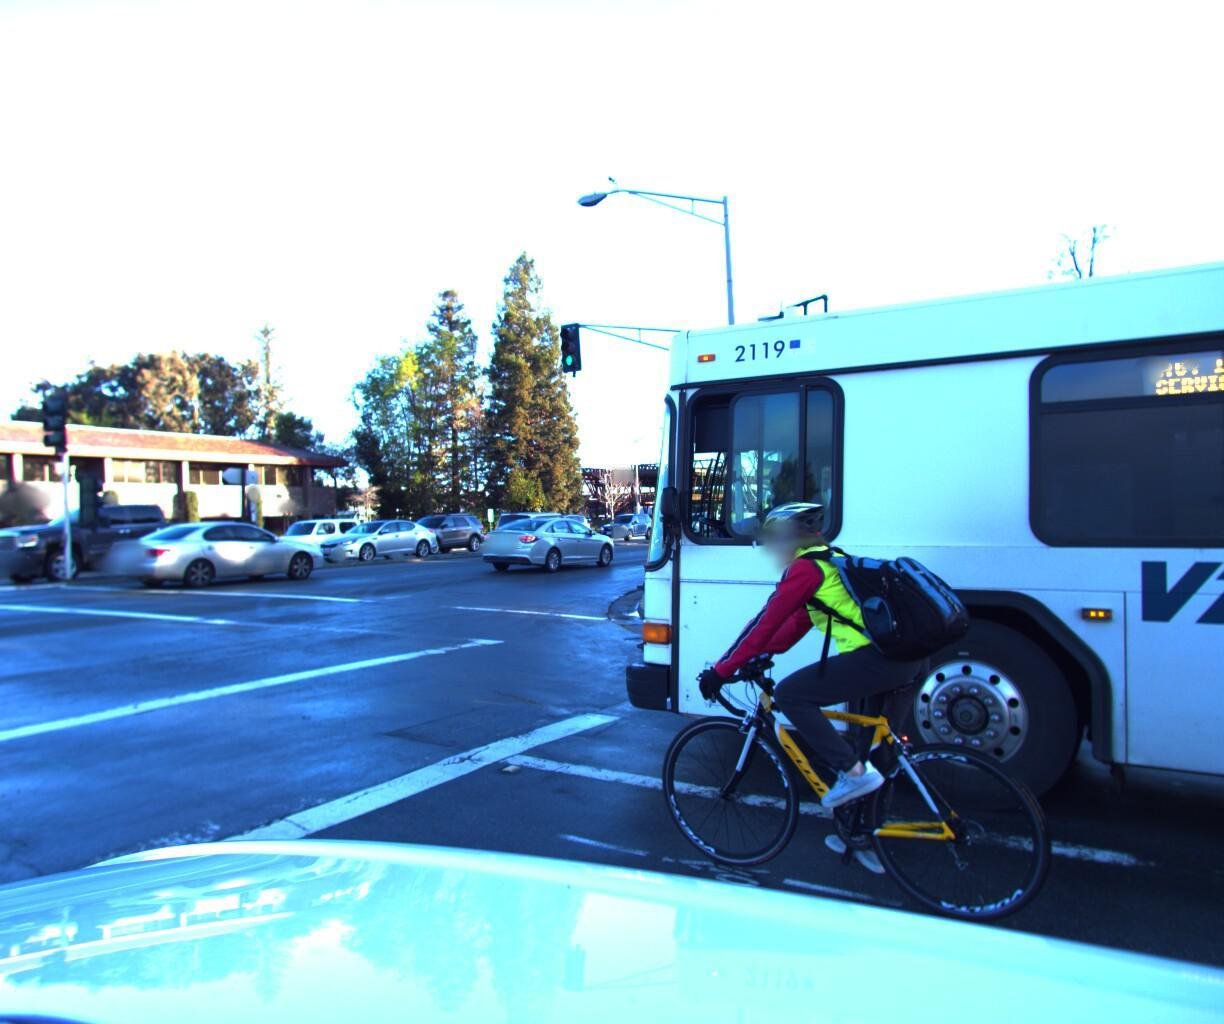bicycle: (605, 445, 1114, 1024)
car: (0, 500, 246, 589), (100, 511, 339, 590), (474, 511, 623, 573), (302, 513, 442, 567), (250, 515, 378, 564), (486, 508, 595, 558), (381, 509, 491, 558), (521, 510, 594, 546), (595, 510, 658, 543), (0, 537, 16, 602)
